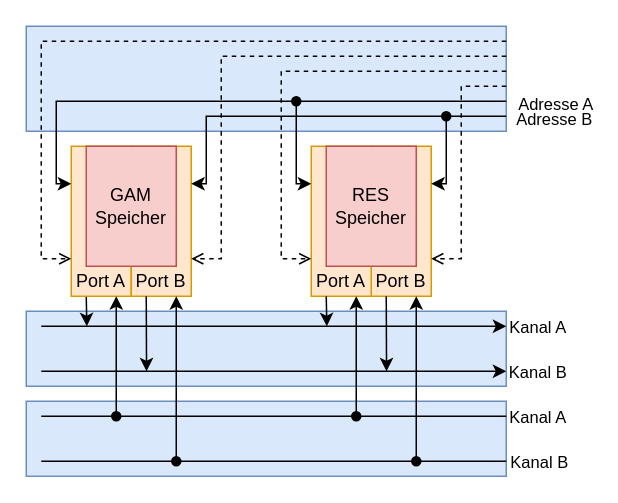
This 618x503 diagram has some shape labels left out. Here are the shapes that lost their labels. From the top down, the centre of each, then its label:
At pixel 265 78: "Speicherkontroll-Bus".
At pixel 265 348: "Lese-Bus".
At pixel 265 438: "Schreib-Bus".
